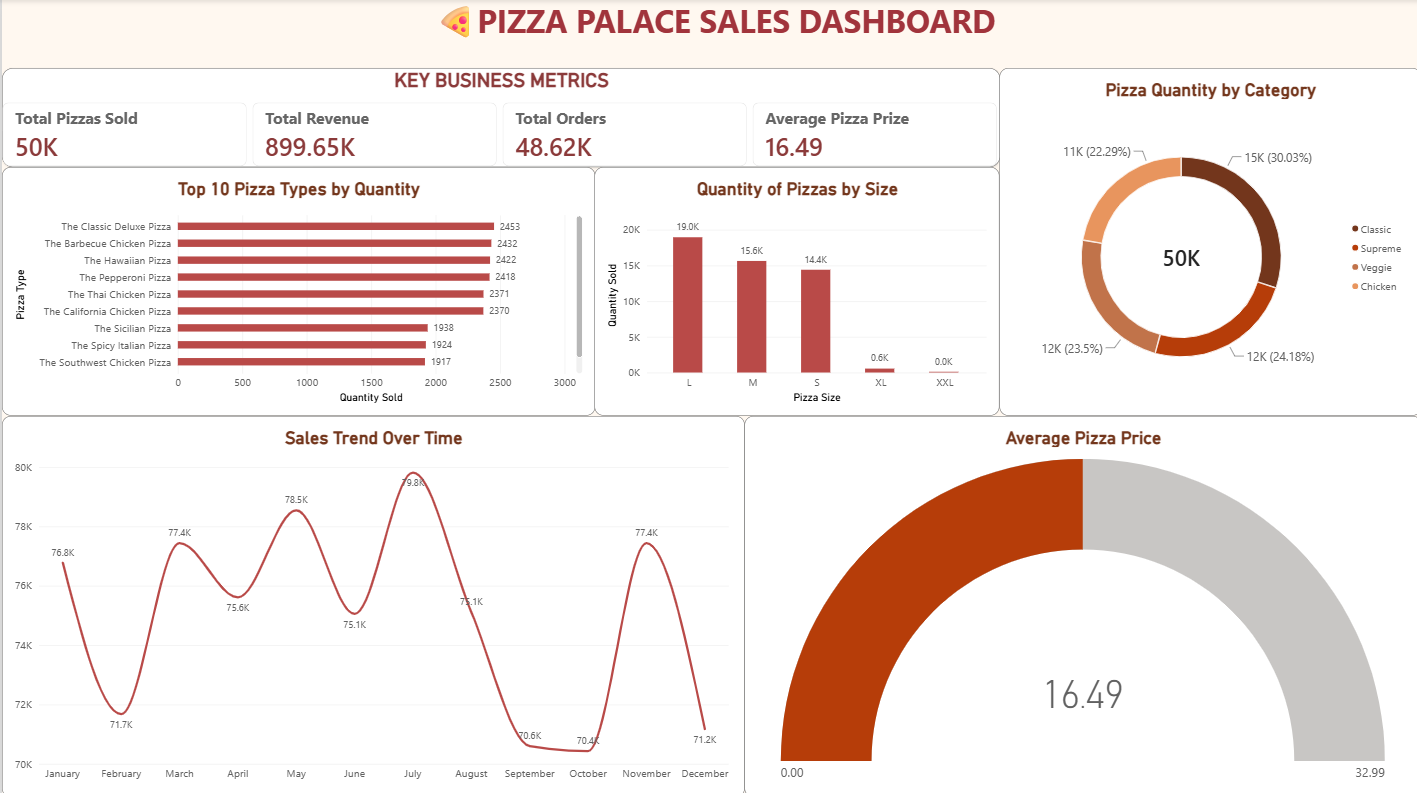

The page's visual inventory and layout, read from the dashboard file:
{"tool":"powerbi","page":{"name":"Pizza Palace Dashboard","canvas":[1920,1080],"ordinal":0},"visuals":[{"type":"textbox","box":[9.1,0,1910.2,56.8],"z":0},{"type":"cardVisual","title":"KEY BUSINESS METRICS","fields":{"Data":["Sum(PowerBI_DataSets - Pizza_Order_Details.quantity)","Sum(PowerBI_DataSets - Pizza_Order_Details.total_amount)","Count(PowerBI_DataSets - Pizza_Order_Details.order_details_id)","Avg(PowerBI_DataSets - Pizza_Order_Details.price)"]},"box":[0,93.1,1349.2,134],"z":1000},{"type":"clusteredBarChart","title":"Top 10 Pizza Types by Quantity","fields":{"Category":["PowerBI_DataSets - Pizza_Order_Details.name"],"Y":["Sum(PowerBI_DataSets - Pizza_Order_Details.quantity)"]},"box":[0,227.1,801.8,336.2],"z":2000},{"type":"clusteredColumnChart","title":"Quantity of Pizzas by Size","fields":{"Category":["PowerBI_DataSets - Pizza_Order_Details.size"],"Y":["Sum(PowerBI_DataSets - Pizza_Order_Details.quantity)"]},"box":[801.8,227.1,547.4,336.2],"z":3000},{"type":"donutChart","title":"Pizza Quantity by Category","fields":{"Category":["PowerBI_DataSets - Pizza_Order_Details.category"],"Y":["Sum(PowerBI_DataSets - Pizza_Order_Details.quantity)"]},"box":[1349.2,93.1,570.1,470.2],"z":4000},{"type":"lineChart","title":"Sales Trend Over Time","fields":{"Category":["PowerBI_DataSets - Pizza_Order_Details.date.Variation.Date Hierarchy.Month"],"Y":["Sum(PowerBI_DataSets - Pizza_Order_Details.total_amount)"]},"box":[0,563.3,1003.9,515.6],"z":5000},{"type":"gauge","title":"Average Pizza Price","fields":{"Y":["Avg(PowerBI_DataSets - Pizza_Order_Details.price)"]},"box":[1003.9,563.3,915.3,515.6],"z":6000}]}

Visuals, with their boxes in screenshot pixels (x1, y1, x2, y2), scaled from the page's 1920x1080 canvas onto the 1417x793 screenshot:
textbox: rect(7, 0, 1416, 42)
"KEY BUSINESS METRICS" cardVisual: rect(0, 68, 996, 167)
"Top 10 Pizza Types by Quantity" clusteredBarChart: rect(0, 167, 592, 414)
"Quantity of Pizzas by Size" clusteredColumnChart: rect(592, 167, 996, 414)
"Pizza Quantity by Category" donutChart: rect(996, 68, 1416, 414)
"Sales Trend Over Time" lineChart: rect(0, 414, 741, 792)
"Average Pizza Price" gauge: rect(741, 414, 1416, 792)
